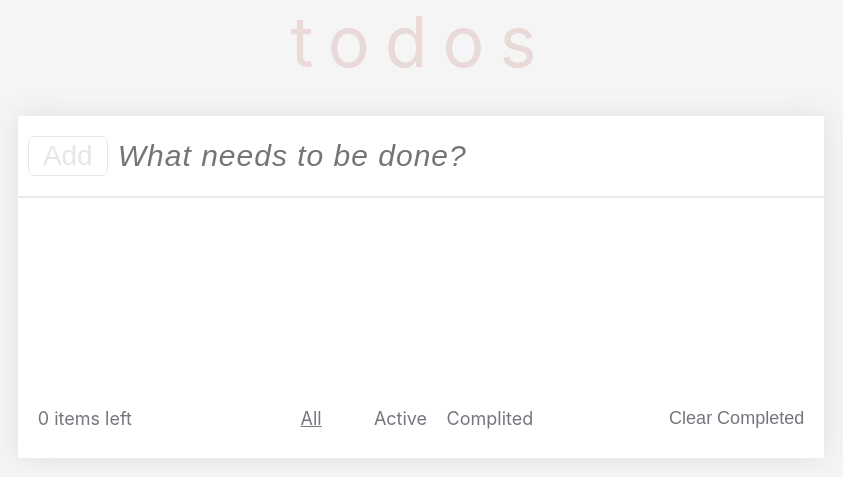
Scenario: App Component › adds a new todo when form is submitted
Step 1. Type "New Todo" into the field with placeholder "What needs to be done?" → (466, 156), box [118,136,814,176]
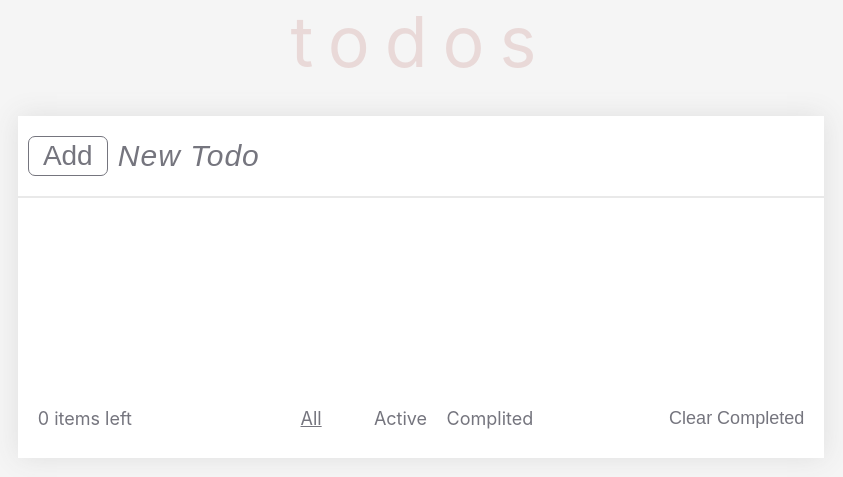
Step 2. Submit the form with test id "todo-form", box [18,116,824,198]
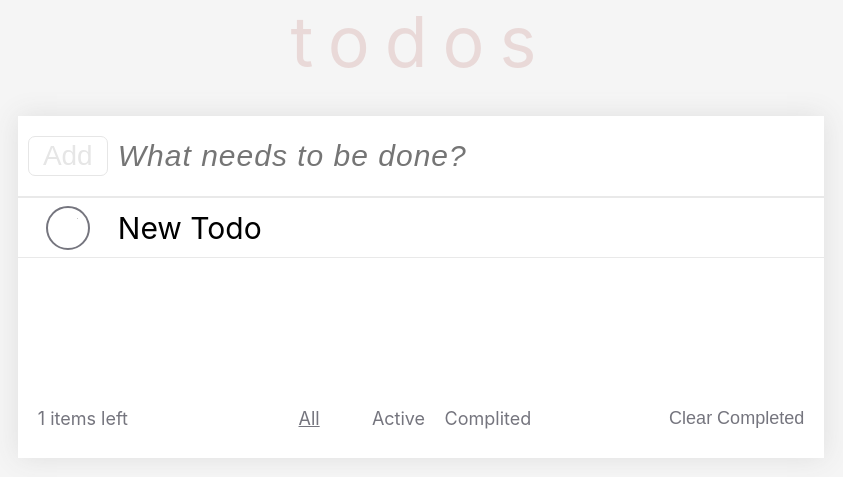
Expected: the heading "New Todo" is shown, [118,210,262,246]
